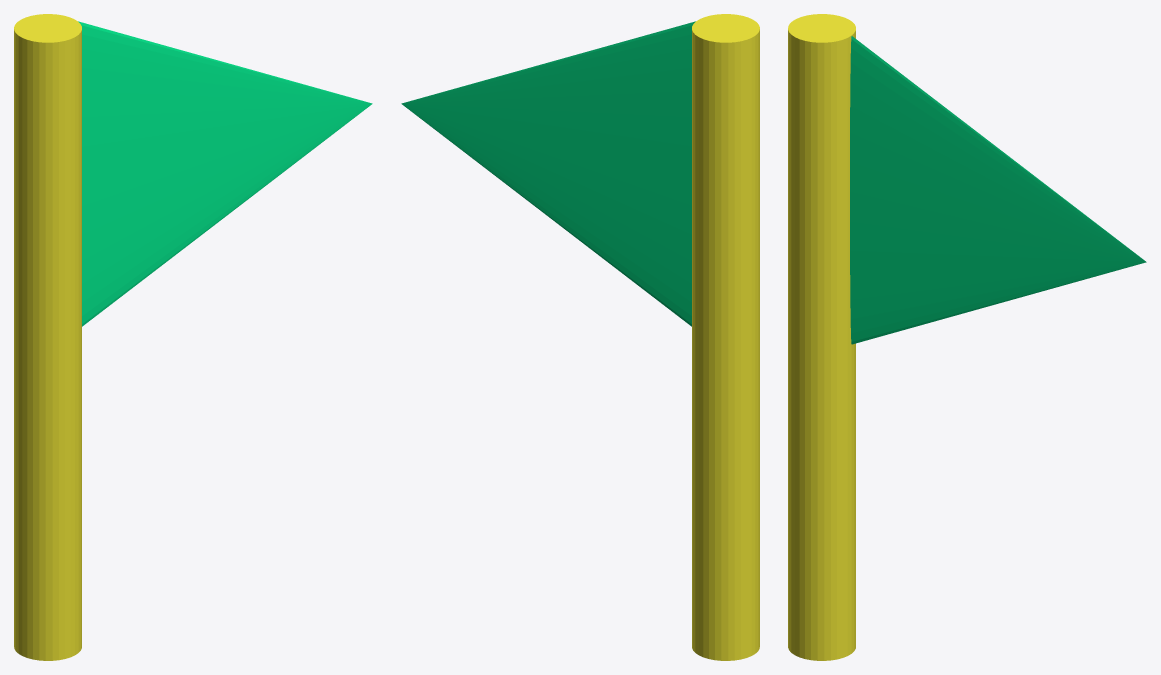
The model's file is GoalFlag.obj.
3 views of the same model, side by side, from view 1: azimuth 30°, elevation 25°; view 2: azimuth 150°, elevation 25°; view 3: azimuth 330°, elevation 25° (orthographic).
Parts seen in each view (by area): view 1: 円錐, 円柱; view 2: 円錐, 円柱; view 3: 円錐, 円柱.
Part boxes in pixels (x1=…): 円錐: x1=78, y1=21, x2=372, y2=326; 円柱: x1=14, y1=14, x2=81, y2=660; 円錐: x1=401, y1=21, x2=695, y2=326; 円柱: x1=692, y1=14, x2=759, y2=660; 円錐: x1=850, y1=36, x2=1146, y2=344; 円柱: x1=788, y1=14, x2=855, y2=660.
Bounding box in the file's own units: 1.2 × 2 × 0.2.
Materials: 1 (1 with a texture image).
